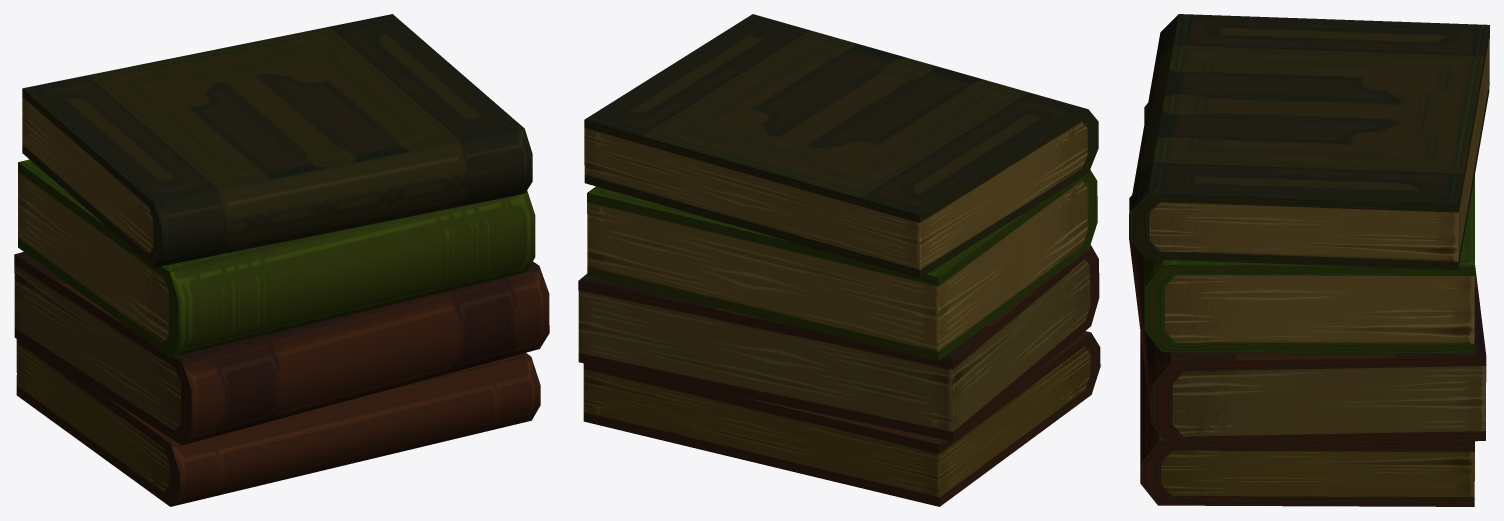
Rendered from Book_Stack_1.gltf.
3 views of the same model, side by side, from view 1: azimuth 30°, elevation 25°; view 2: azimuth 150°, elevation 25°; view 3: azimuth 270°, elevation 25° (orthographic). The views are drawn at different scales.
Visible parts, largest first — view 1: Book_Stack_1; view 2: Book_Stack_1; view 3: Book_Stack_1.
Boxes of the visible parts, <box> form: Book_Stack_1: <box>14,14,549,506</box>; Book_Stack_1: <box>578,14,1100,506</box>; Book_Stack_1: <box>1129,14,1489,506</box>.
Bounding box in the file's own units: 0.2849 × 0.2137 × 0.2263.
1 material, 1 textured.
